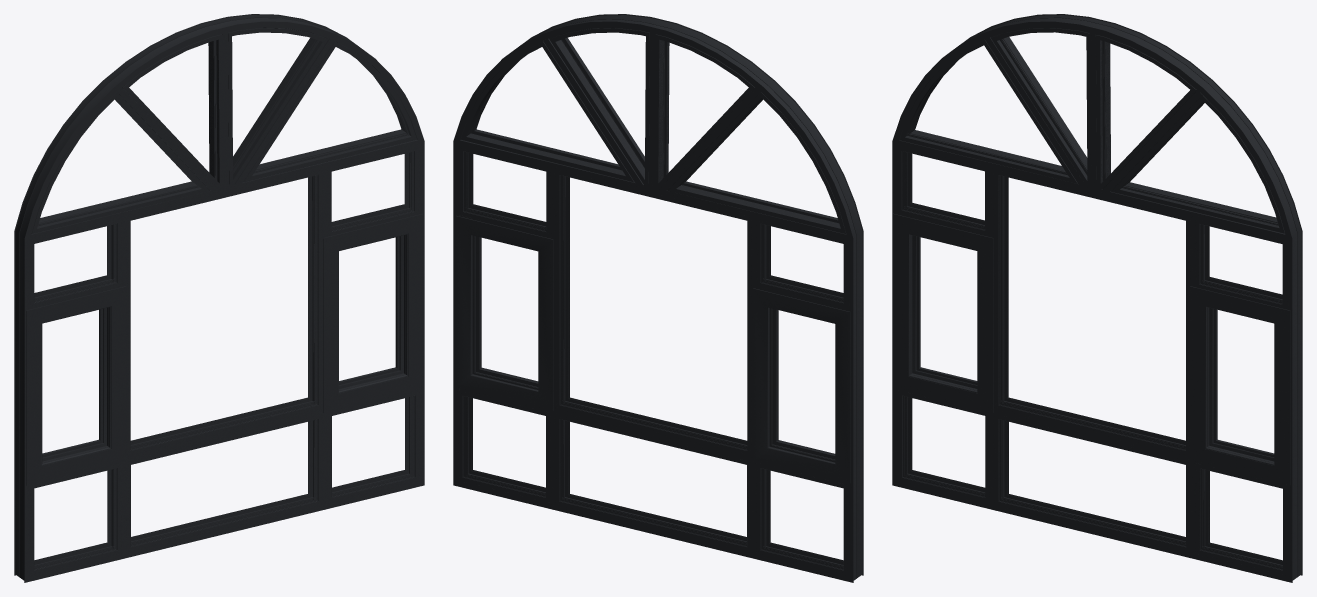
File: custom.gltf
3 views of the same model, side by side, from view 1: azimuth 30°, elevation 25°; view 2: azimuth 150°, elevation 25°; view 3: azimuth 330°, elevation 25° (orthographic).
Visible parts, largest first — view 1: load_mesh; view 2: load_mesh; view 3: load_mesh.
Part boxes in pixels (<box>): load_mesh: <box>14,14,424,582</box>; load_mesh: <box>453,14,863,582</box>; load_mesh: <box>892,14,1302,582</box>.
Size of the model in its own units: 8.26 by 10 by 0.4123.
